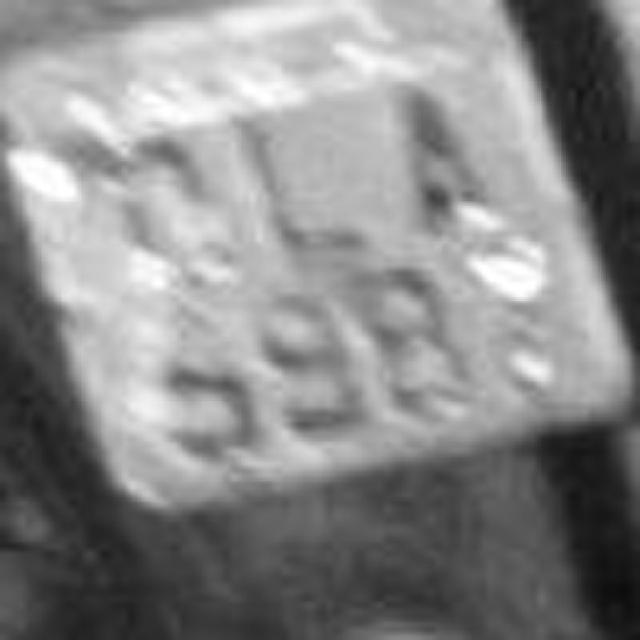5: (116, 304, 284, 484)
8: (340, 232, 505, 432)
9: (232, 268, 388, 452)
J: (369, 68, 516, 240), (216, 105, 372, 260)
N: (372, 65, 528, 260)
